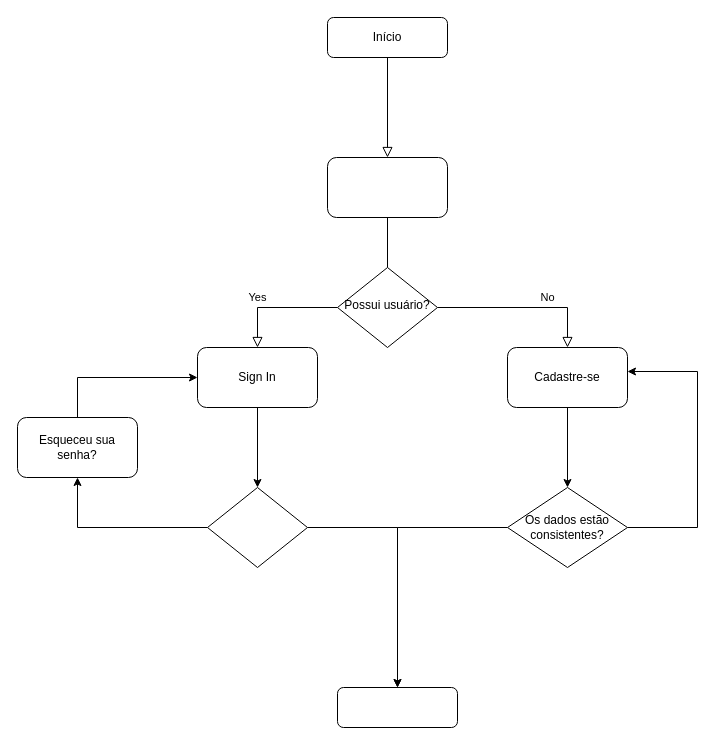
The diagram is 723 pixels wide and 745 high, and some of its shapes have lost their labels. The shapes that lost their labels are listed below. From the top down, each one's box as (x1, y1, x2, y2) in pixels, then its label:
(326, 156, 448, 218): Login
(206, 486, 308, 568): Autentica?
(336, 686, 458, 728): Fim
